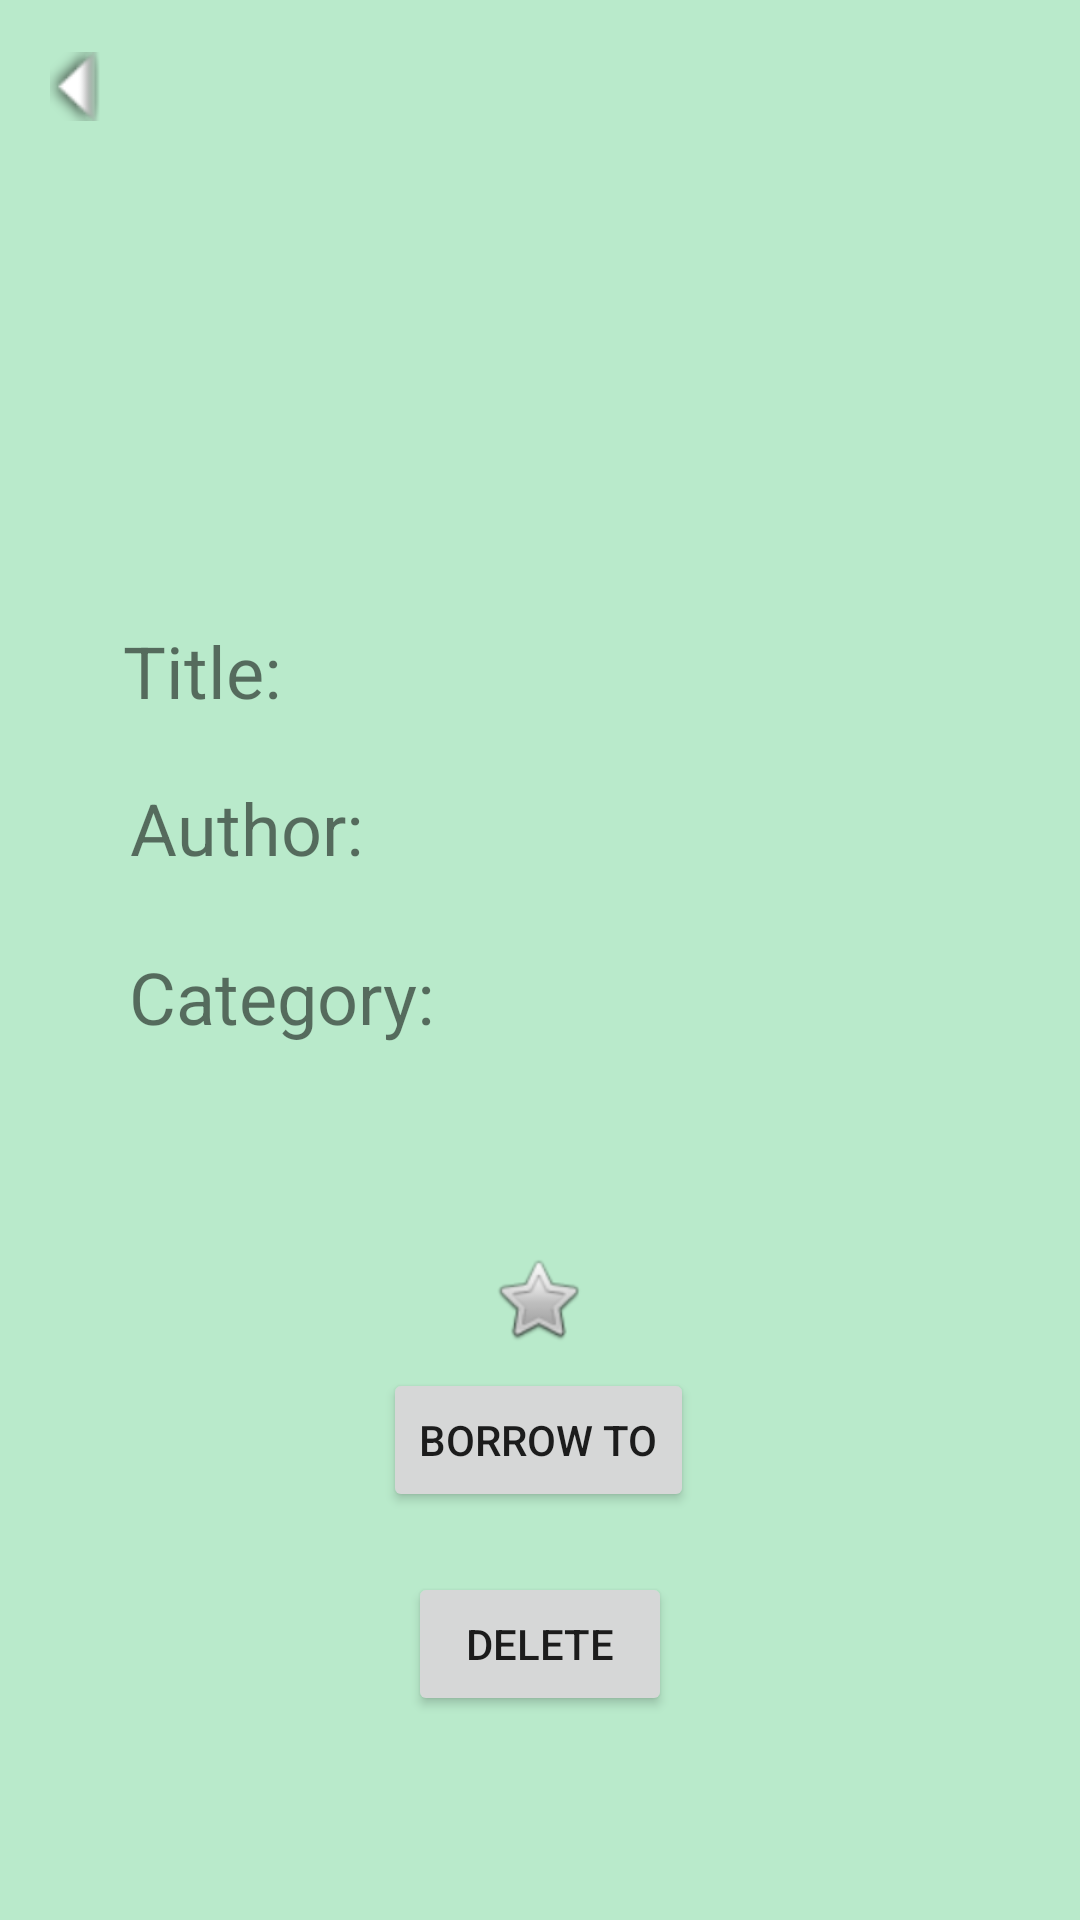

Where to tap for icons on this 1080 x 1920 app screen, as point (x, y):
star off: point (539, 1300)
